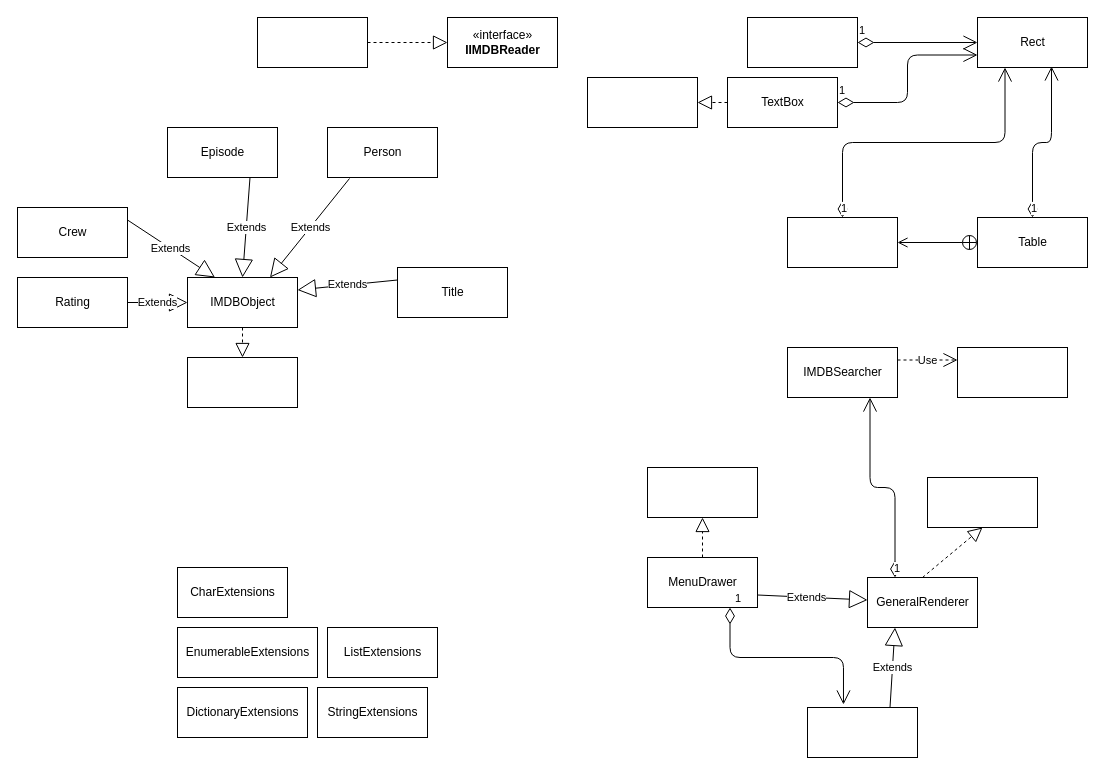
This 1105x775 diagram has some shape labels left out. Here are the shapes that lost their labels. From the top down, the centre of each, then its label:
the point at 312,42: IMDBFileReader
the point at 802,42: ProgressBar
the point at 642,102: «interface» IPrintable
the point at 842,242: Column
the point at 242,382: «interface» IIMDBValue
the point at 1012,372: SearchType
the point at 702,492: «interface» IMenu
the point at 982,502: «interface» IMenuRenderer
the point at 862,732: ResultsPrinter
